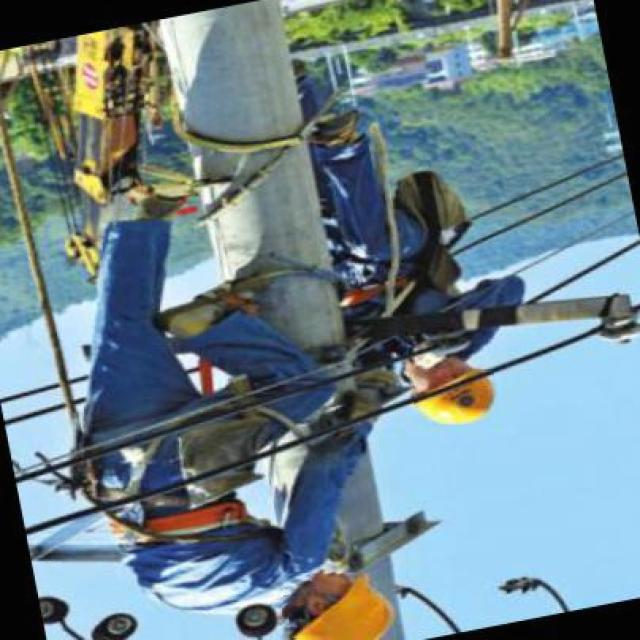helmet: (282, 573, 393, 640), (414, 370, 494, 424)
